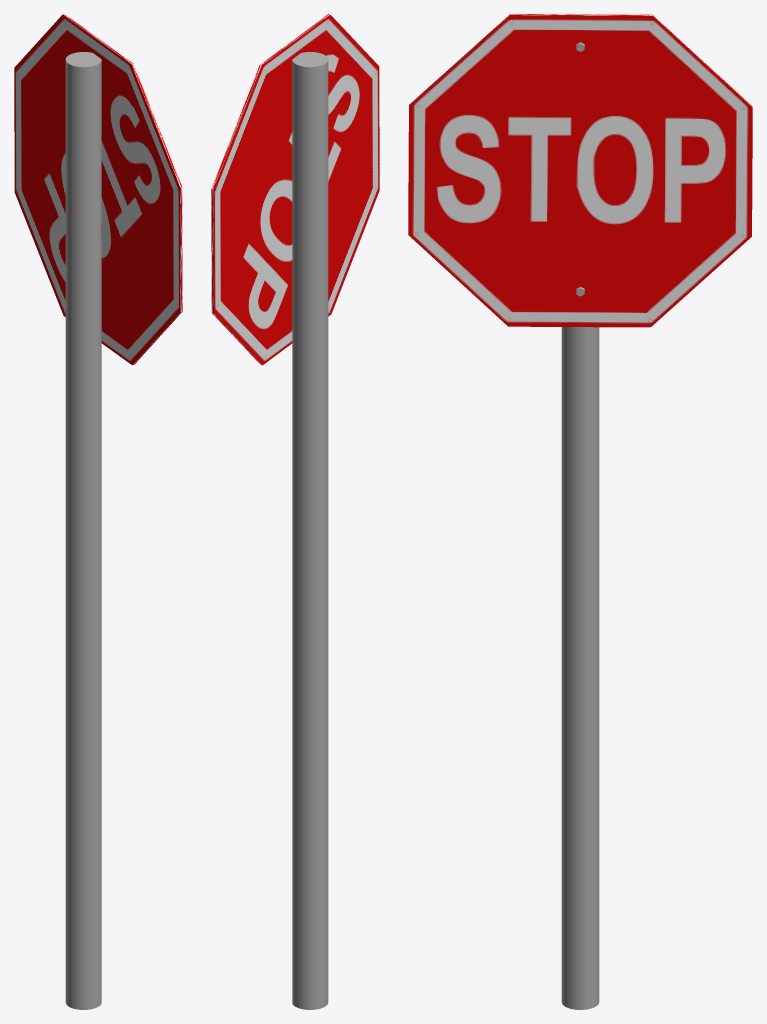
File: stop_sign_tyro.glb
3 renders of one model, left to right at view 1: azimuth 30°, elevation 25°; view 2: azimuth 150°, elevation 25°; view 3: azimuth 270°, elevation 25°, orthographic. The views are drawn at different scales.
Visible parts, largest first — view 1: Cylinder, Cylinder.001; view 2: Cylinder, Cylinder.001; view 3: Cylinder.001, Cylinder.
Boxes of the visible parts, left/top/right/bottom form: Cylinder: left=65, top=52, right=101, bottom=1009; Cylinder.001: left=14, top=14, right=182, bottom=365; Cylinder: left=292, top=52, right=328, bottom=1009; Cylinder.001: left=211, top=14, right=379, bottom=365; Cylinder.001: left=408, top=14, right=752, bottom=327; Cylinder: left=561, top=327, right=599, bottom=1009.
Bounding box in the file's own units: 0.0896 × 2.4 × 0.7535.
3 materials, 2 textured.
